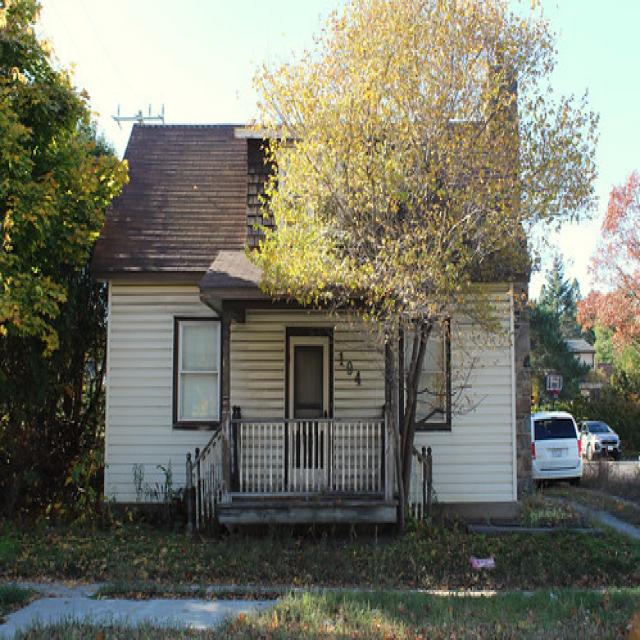Normal_building: (87, 104, 534, 538)
